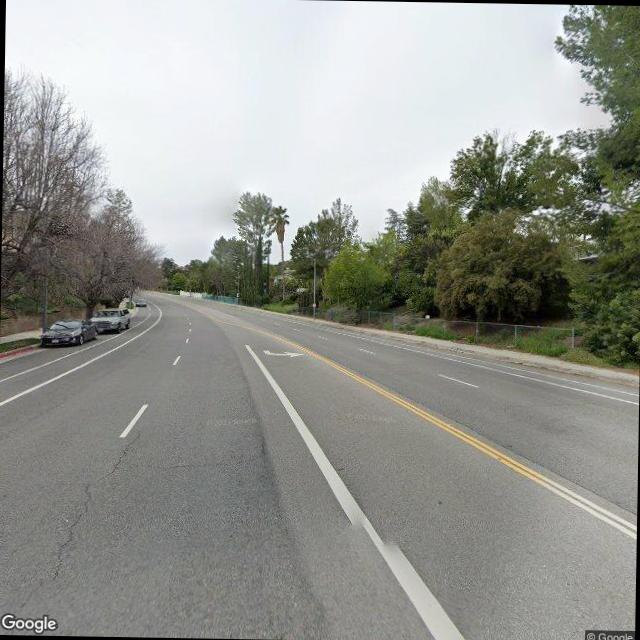crack: (23, 426, 143, 607), (146, 445, 258, 470)
